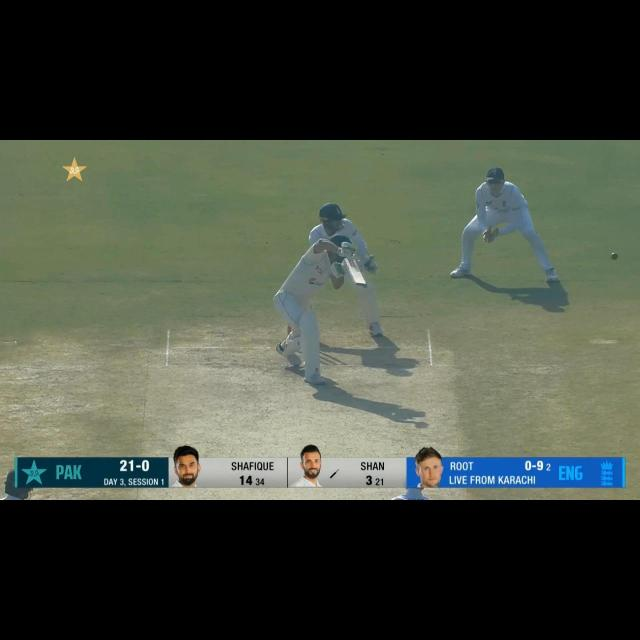bat: (344, 260, 369, 289)
toe: (353, 278, 367, 288)
